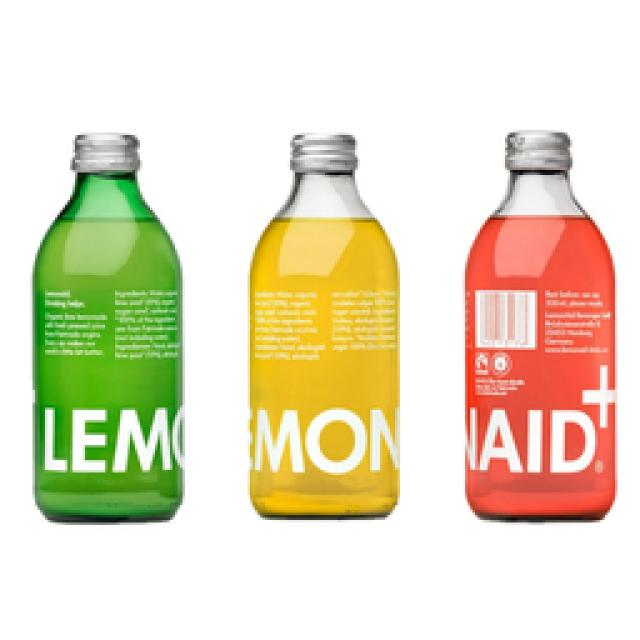glass_beverage_bottles: (23, 125, 184, 528), (467, 125, 620, 520), (250, 123, 400, 517)
